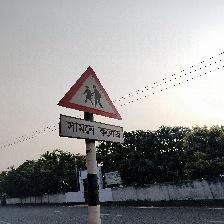College-in-front: (56, 54, 141, 154)
